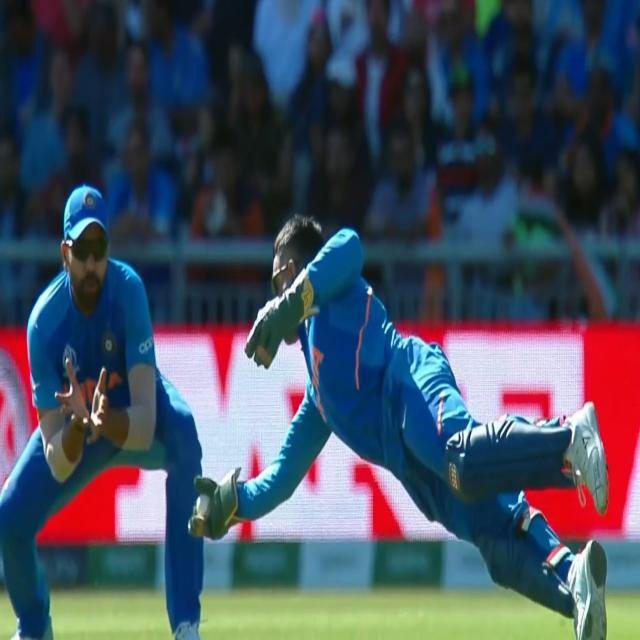ball: (188, 486, 215, 527)
